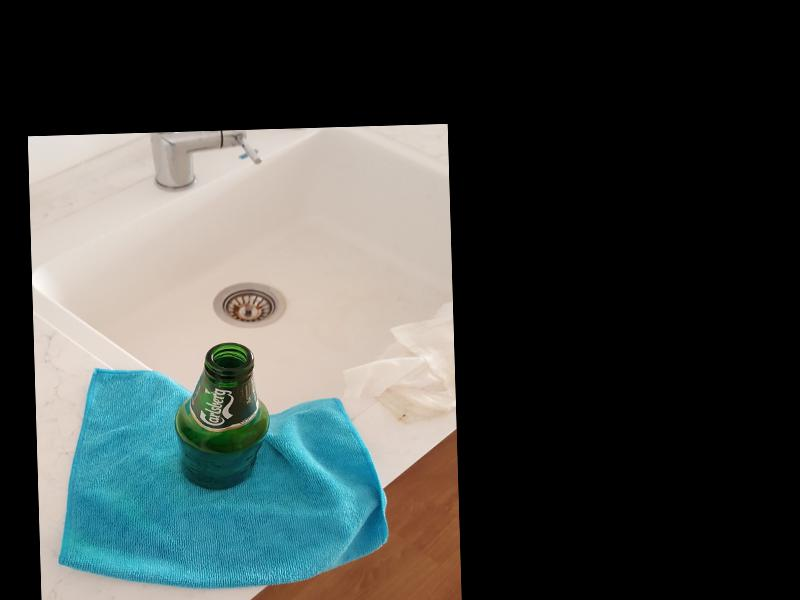Beer: (176, 343, 272, 492)
